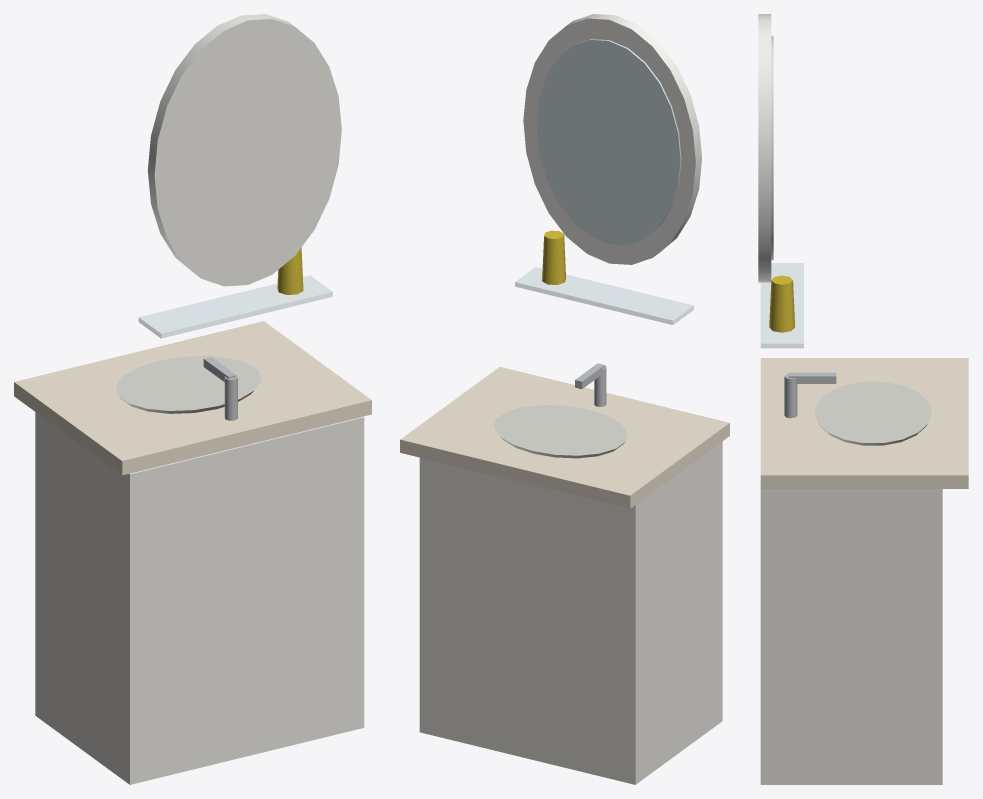
File: vanity.glb
3 renders of one model, left to right at view 1: azimuth 30°, elevation 25°; view 2: azimuth 150°, elevation 25°; view 3: azimuth 270°, elevation 25°, orthographic. The views are drawn at different scales.
Parts seen in each view (by area): view 1: vanity; view 2: vanity; view 3: vanity.
Boxes of the visible parts, x1,y1,x2,y2 form: vanity: (14,14,371,784); vanity: (400,14,729,784); vanity: (758,14,968,784).
Size of the model in its own units: 0.64 by 1.8 by 0.485.
